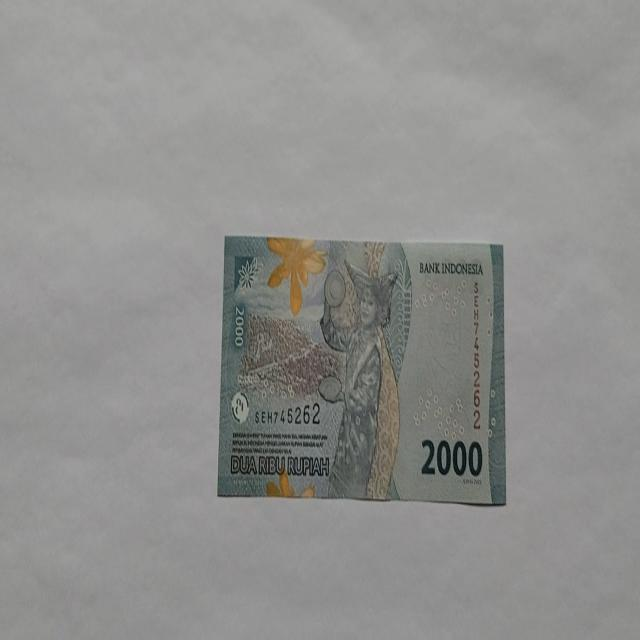dua ribu rupiah: (216, 235, 506, 505), (318, 256, 402, 500)
